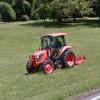Tractor: (22, 27, 81, 80)
